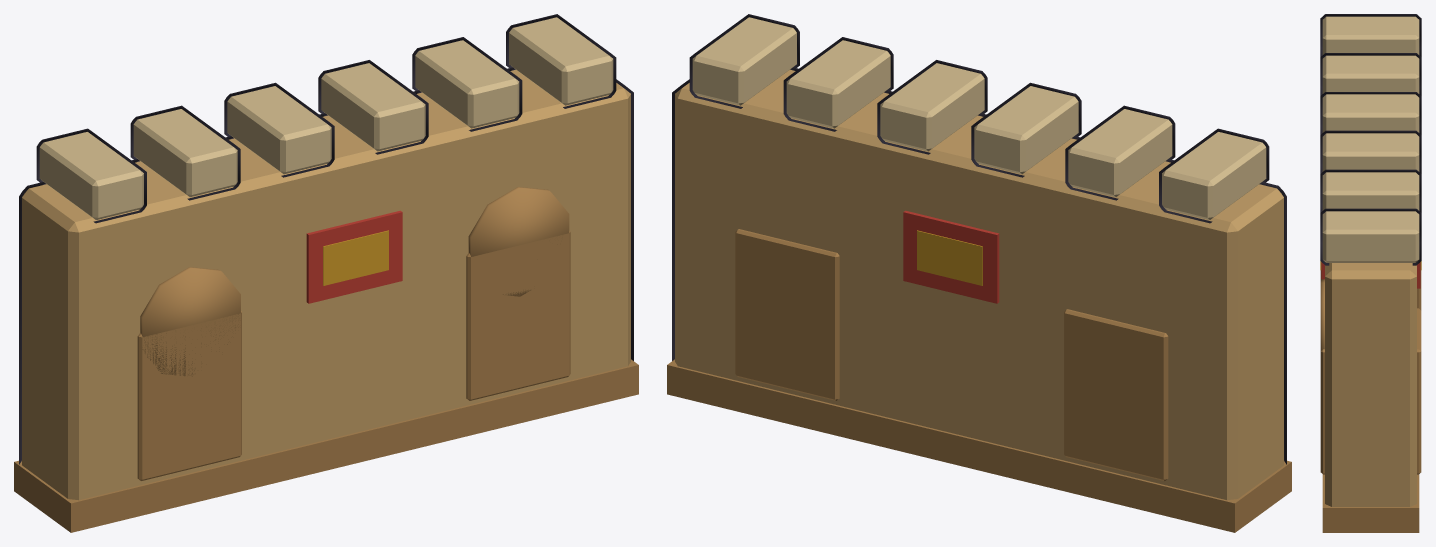
Rendered from bazaar_wall.glb.
3 renders of one model, left to right at view 1: azimuth 30°, elevation 25°; view 2: azimuth 150°, elevation 25°; view 3: azimuth 270°, elevation 25°, orthographic. The views are drawn at different scales.
Visible parts, largest first — view 1: bazaar_wall; view 2: bazaar_wall; view 3: bazaar_wall.
Boxes of the visible parts, bbox=[...] form: bazaar_wall: bbox=[14, 14, 638, 532]; bazaar_wall: bbox=[667, 14, 1291, 532]; bazaar_wall: bbox=[1320, 14, 1421, 532].
Bounding box in the file's own units: 12.11 × 7.11 × 2.21.
